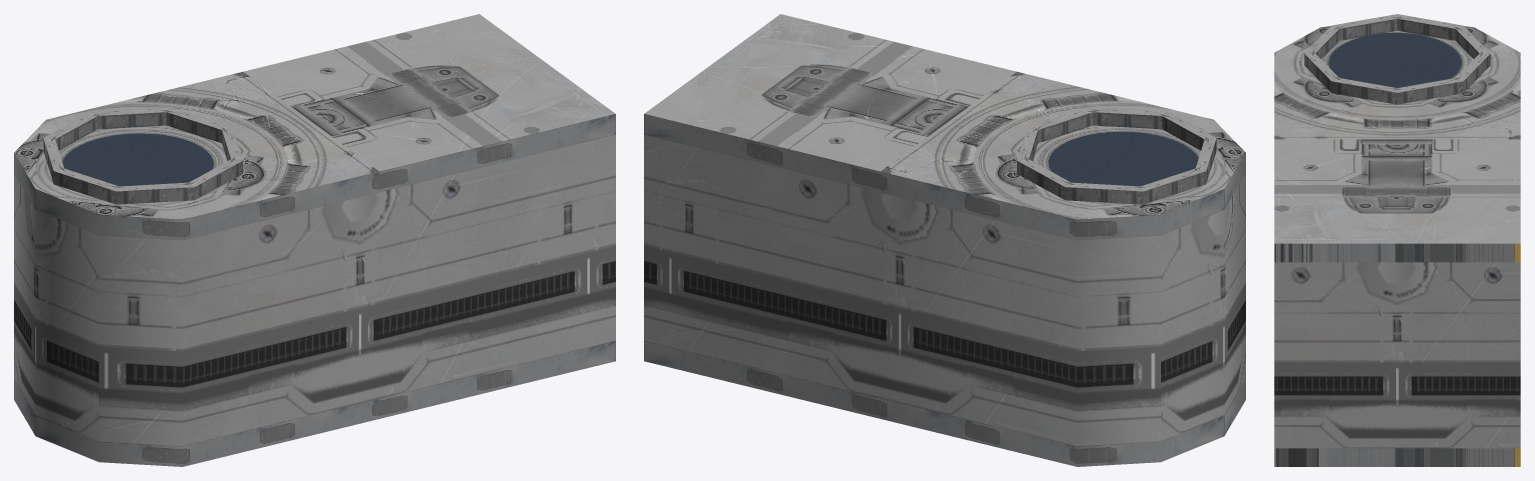
The model's file is SM_PillarsDeco1.fbx.
3 views of the same model, side by side, from view 1: azimuth 30°, elevation 25°; view 2: azimuth 150°, elevation 25°; view 3: azimuth 270°, elevation 25° (orthographic). The views are drawn at different scales.
Parts seen in each view (by area): view 1: SM_PillarsDeco1_LOD0; view 2: SM_PillarsDeco1_LOD0; view 3: SM_PillarsDeco1_LOD0.
Boxes of the visible parts, <box> form: SM_PillarsDeco1_LOD0: <box>14,14,615,466</box>; SM_PillarsDeco1_LOD0: <box>644,14,1245,466</box>; SM_PillarsDeco1_LOD0: <box>1274,14,1520,466</box>.
Size of the model in its own units: 130 by 60 by 63.23.
Materials: 3 (3 with a texture image).
